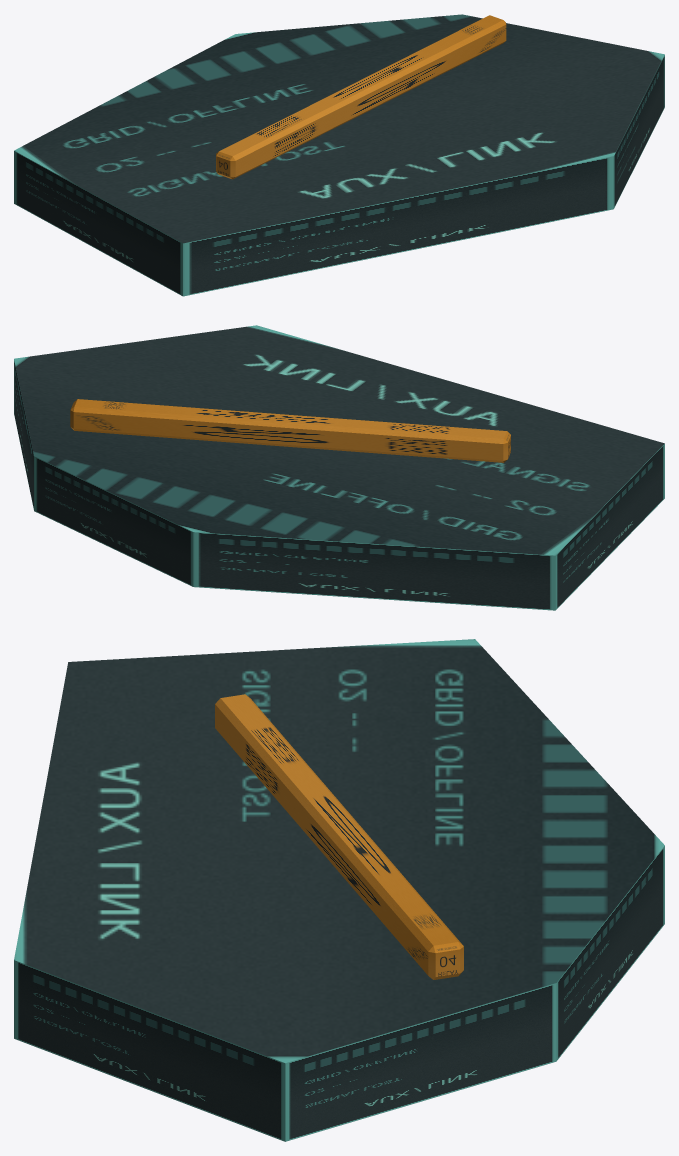
File: debris_panel_LOD2.obj
3 views of the same model, one above another, from view 1: azimuth 30°, elevation 25°; view 2: azimuth 150°, elevation 25°; view 3: azimuth 270°, elevation 25° (orthographic). The views are drawn at different scales.
Visible parts, largest first — view 1: L02_debris_panel_LOD2; view 2: L02_debris_panel_LOD2; view 3: L02_debris_panel_LOD2.
Part boxes in pixels (x1,y1,x2,y2): L02_debris_panel_LOD2: (14,14,664,296); L02_debris_panel_LOD2: (14,325,664,610); L02_debris_panel_LOD2: (14,639,664,1141).
Bounding box in the file's own units: 1.85 × 0.235 × 1.2.
Materials: 1 (1 with a texture image).
